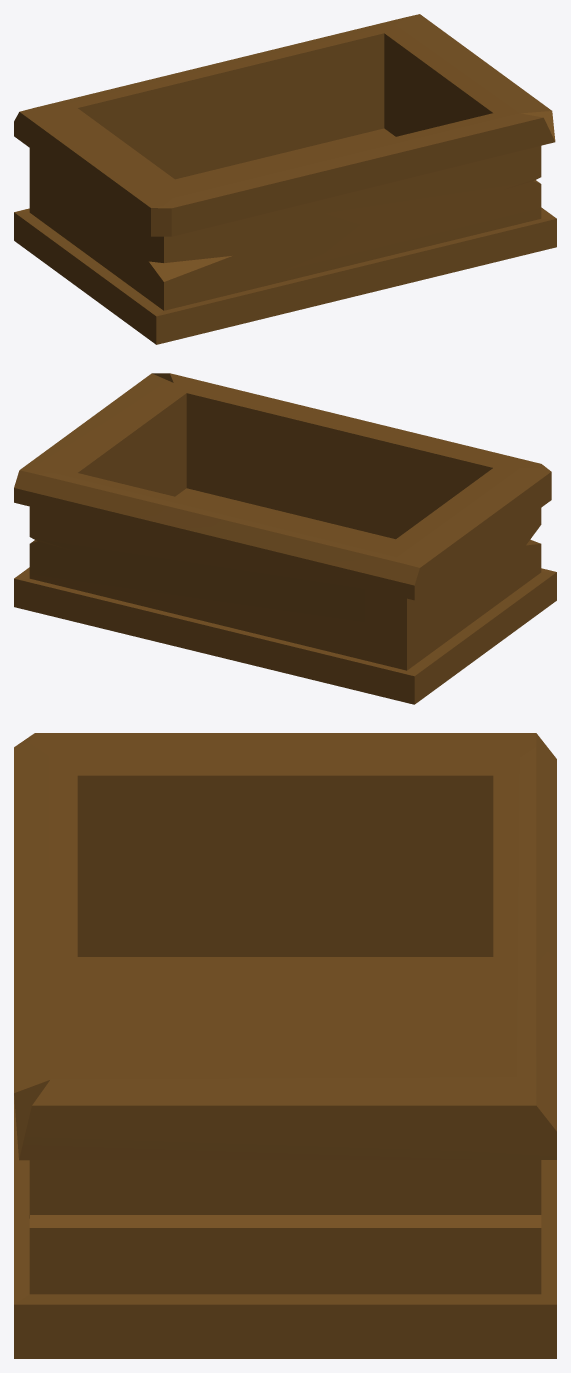
The model's file is crate.fbx.
3 renders of one model, top to bottom at view 1: azimuth 30°, elevation 25°; view 2: azimuth 150°, elevation 25°; view 3: azimuth 270°, elevation 25°, orthographic. The views are drawn at different scales.
Parts seen in each view (by area): view 1: misc010; view 2: misc010; view 3: misc010.
Boxes of the visible parts, <box> form: misc010: <box>14,14,556,344</box>; misc010: <box>14,373,556,704</box>; misc010: <box>14,733,556,1358</box>.
Bounding box in the file's own units: 97.43 × 31.11 × 60.01.
